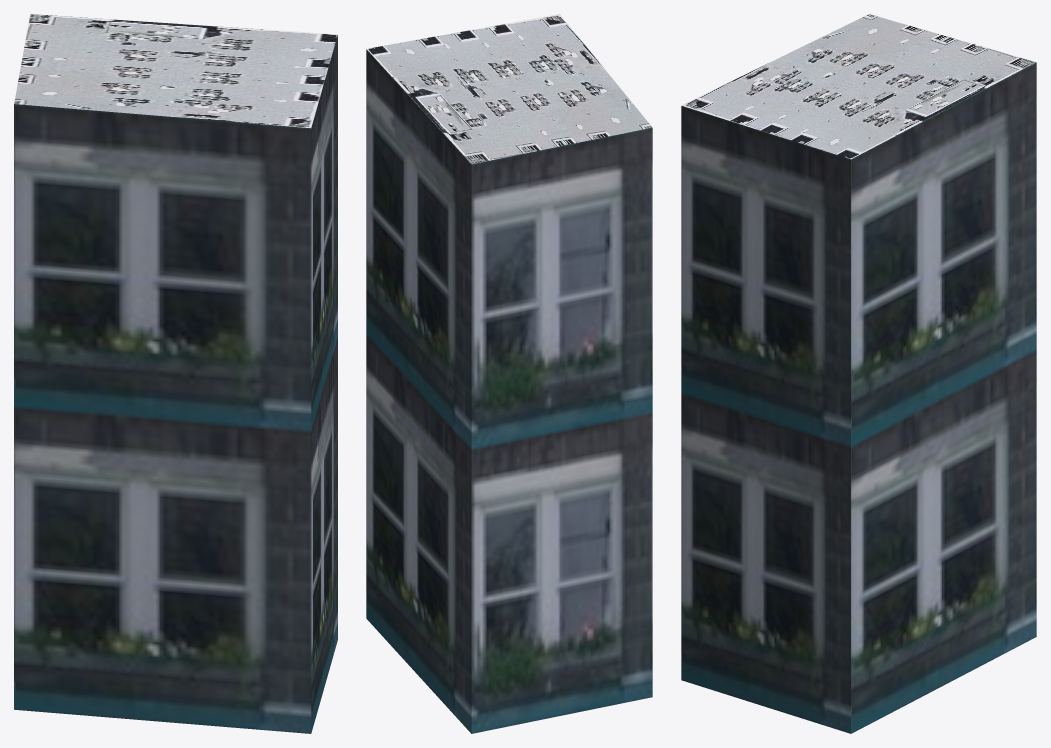
File: ResTex__2709.fbx
The picture shows the model from 3 angles, left to right: view 1: azimuth 30°, elevation 25°; view 2: azimuth 150°, elevation 25°; view 3: azimuth 270°, elevation 25°; orthographic projection. The views are drawn at different scales.
Parts seen in each view (by area): view 1: CityEngineMaterial_11_m, CityEngineMaterial_m; view 2: CityEngineMaterial_11_m, CityEngineMaterial_m; view 3: CityEngineMaterial_11_m, CityEngineMaterial_m.
Part boxes in pixels (x1,y1,x2,y2): CityEngineMaterial_11_m: (14,35,337,733); CityEngineMaterial_m: (14,14,337,128); CityEngineMaterial_11_m: (366,49,652,733); CityEngineMaterial_m: (366,14,652,164); CityEngineMaterial_11_m: (681,62,1036,733); CityEngineMaterial_m: (681,14,1035,159).
Size of the model in its own units: 3.26 by 6 by 3.36.
2 materials, 2 textured.
